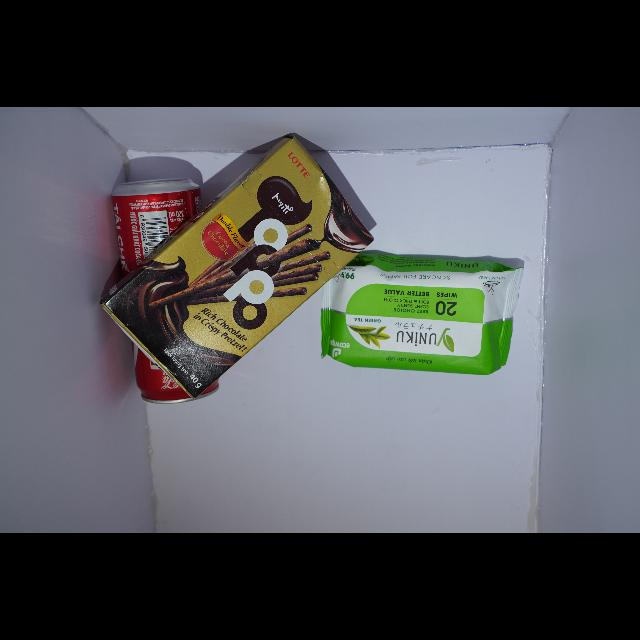banh_toppo_socola: (101, 136, 374, 399)
coca_cola: (112, 179, 201, 278), (136, 347, 192, 403), (197, 380, 219, 399)
khan_giay: (321, 254, 523, 374)
